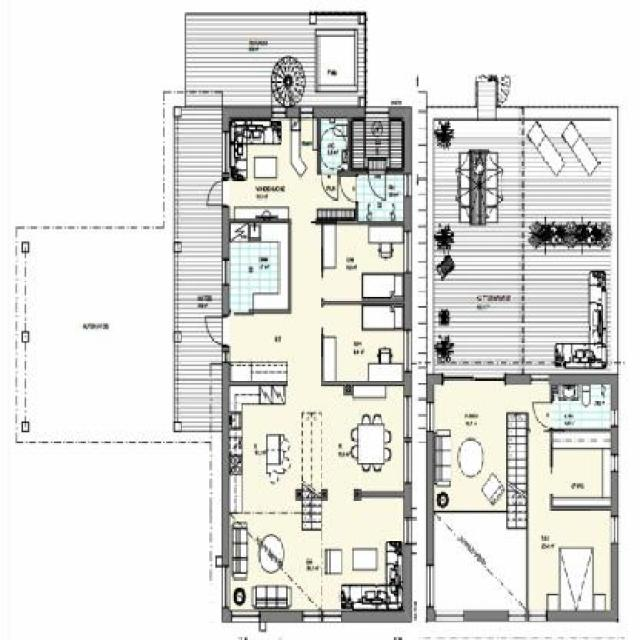door: (531, 396, 557, 430), (203, 314, 229, 346), (368, 168, 388, 206), (338, 172, 358, 208), (203, 178, 228, 204), (323, 170, 340, 204)
window: (404, 397, 416, 486), (446, 374, 503, 384), (403, 232, 414, 274), (404, 328, 414, 372), (232, 606, 257, 622), (363, 105, 389, 120), (401, 518, 414, 544), (506, 605, 523, 623), (297, 106, 317, 120), (424, 402, 436, 424), (426, 566, 432, 608), (325, 610, 340, 624), (404, 174, 414, 195), (434, 611, 464, 618), (529, 612, 549, 622), (304, 608, 318, 622), (611, 518, 618, 544), (272, 108, 286, 120), (532, 374, 550, 383), (610, 414, 618, 432), (614, 454, 620, 472)
zone: (437, 118, 609, 371), (229, 385, 403, 609), (229, 228, 405, 382), (223, 118, 406, 220), (186, 9, 363, 103), (173, 111, 224, 431), (524, 378, 610, 511), (434, 383, 523, 511), (434, 514, 528, 611), (526, 508, 611, 610)
